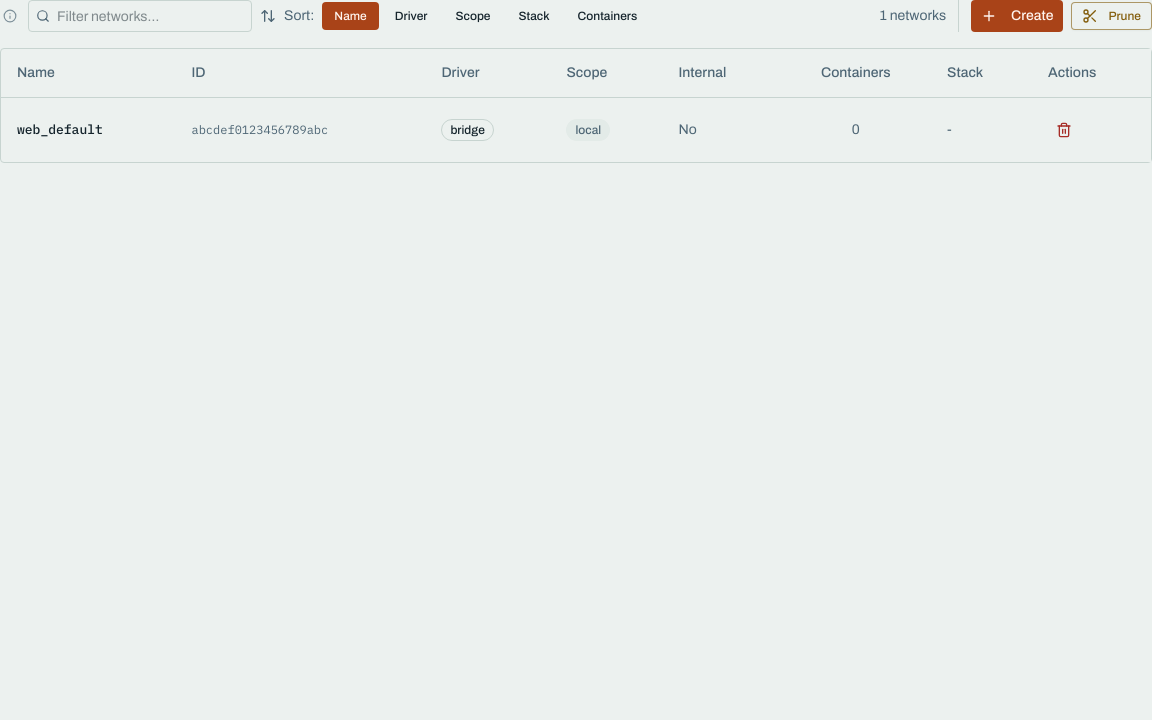
Scenario: NetworksTab — deleting › deletes nothing when the confirmation is dismissed
Click the button named "Remove network": (1064, 130) [1048,114,1080,146]
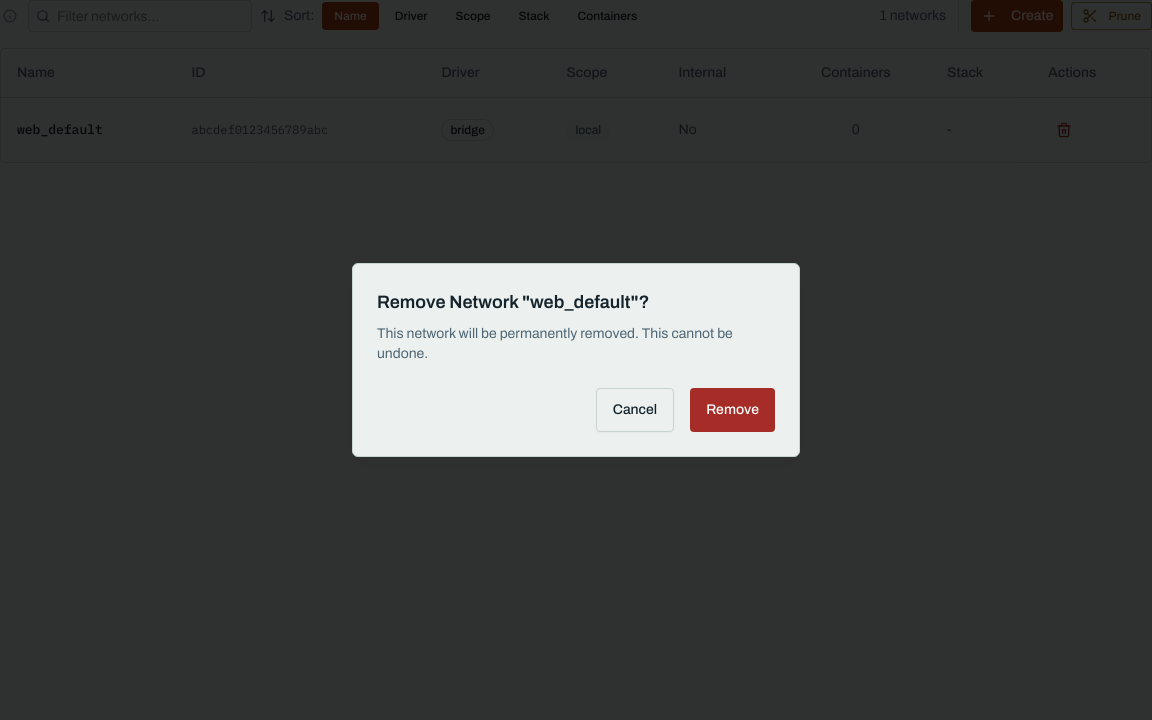
Click the button "Cancel": (635, 410) [596,388,674,432]
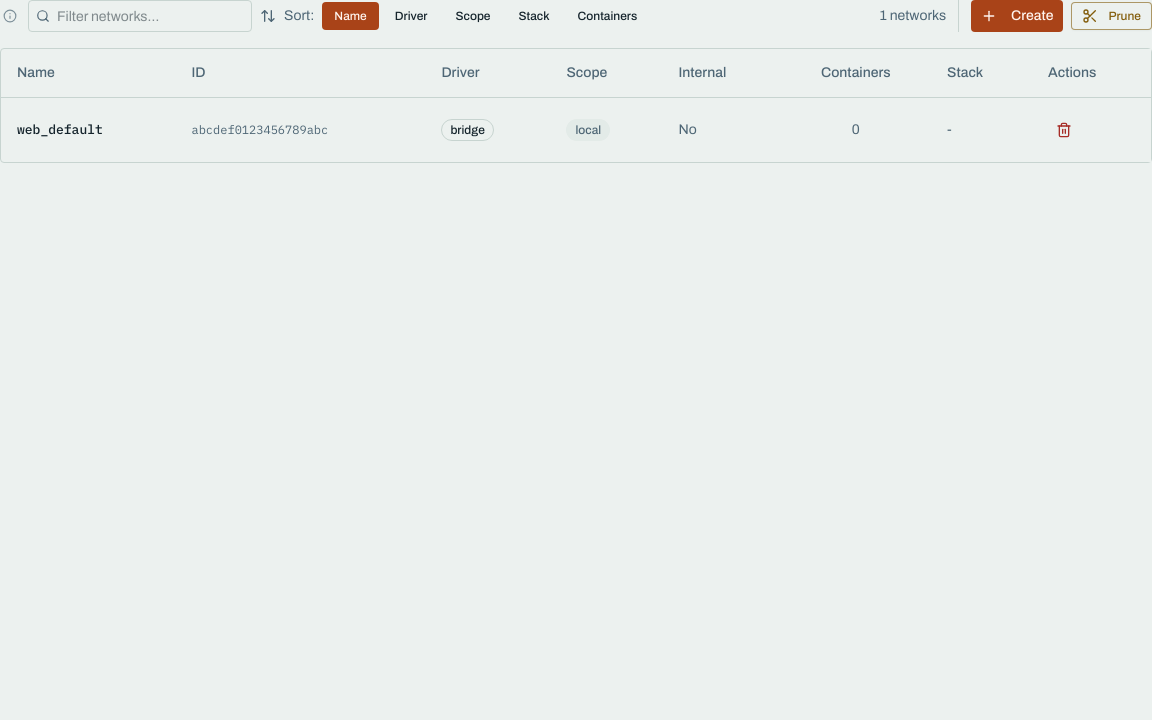
expect the heading "Remove Network" is gone: met
